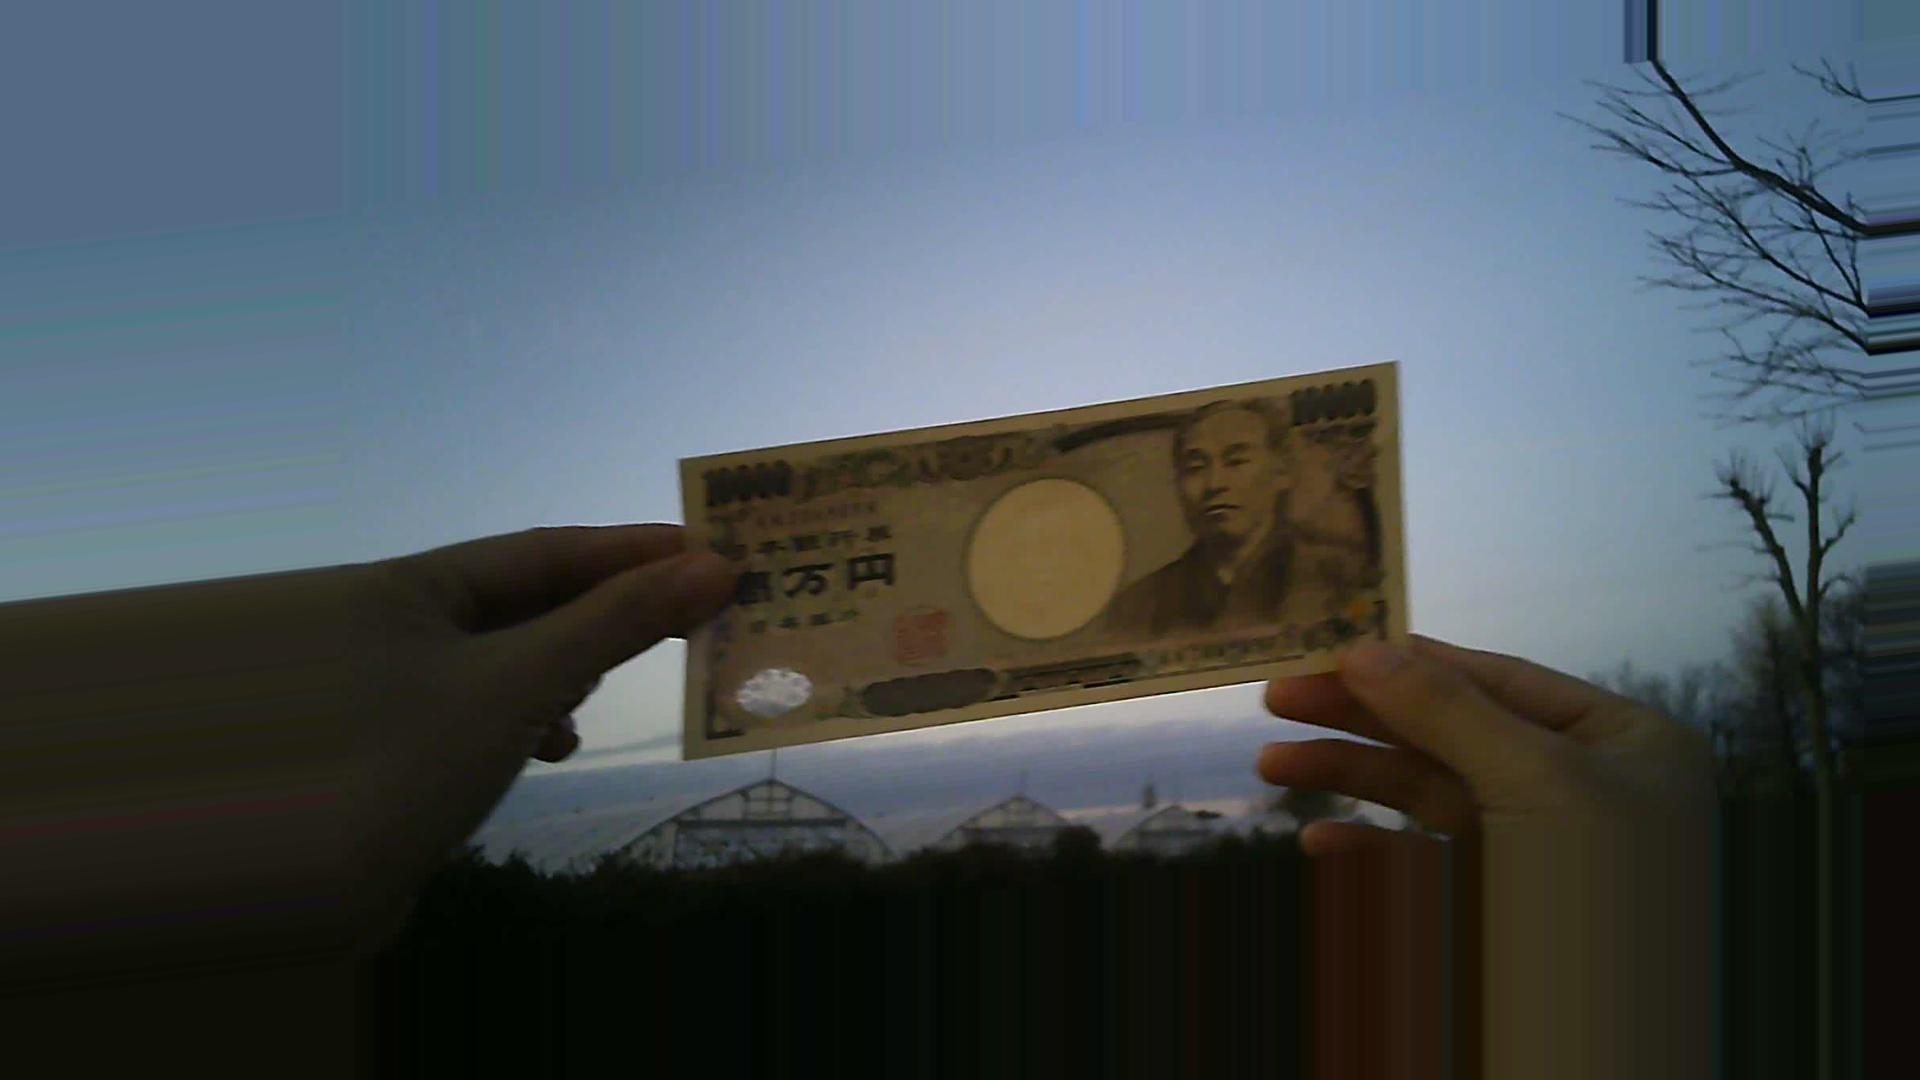10,000 Yen: (666, 367, 1433, 711)
